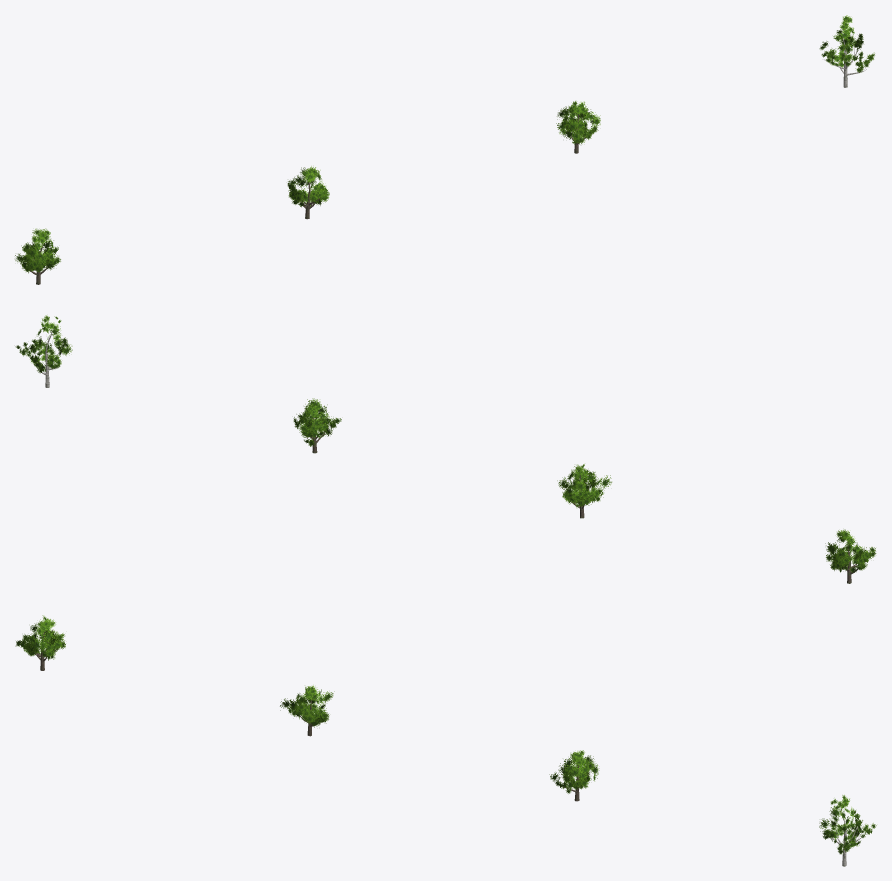
The model's file is broadleaf.glb.
3 renders of one model, top to bottom at view 1: azimuth 30°, elevation 25°; view 2: azimuth 150°, elevation 25°; view 3: azimuth 330°, elevation 25°, orthographic.
Parts seen in each view (by area): view 1: broadleaf_leaves_33, broadleaf_leaves_3, broadleaf_leaves_21, broadleaf_leaves_8; view 2: broadleaf_leaves_8, broadleaf_leaves_33, broadleaf_leaves_3, broadleaf_leaves_21; view 3: broadleaf_leaves_33, broadleaf_leaves_3, broadleaf_leaves_8, broadleaf_leaves_21.
Part boxes in pixels (x1,y1,x2,y2): broadleaf_leaves_33: [819, 15, 874, 72]; broadleaf_leaves_3: [15, 228, 60, 273]; broadleaf_leaves_21: [556, 101, 600, 144]; broadleaf_leaves_8: [287, 166, 329, 207]; broadleaf_leaves_8: [557, 464, 611, 507]; broadleaf_leaves_33: [15, 315, 72, 373]; broadleaf_leaves_3: [825, 529, 876, 572]; broadleaf_leaves_21: [293, 398, 341, 446]; broadleaf_leaves_33: [819, 795, 876, 854]; broadleaf_leaves_3: [15, 615, 65, 660]; broadleaf_leaves_8: [280, 685, 334, 727]; broadleaf_leaves_21: [549, 750, 599, 793].
Size of the model in its own units: 190 by 15.53 by 11.08.
3 materials, 3 textured.
